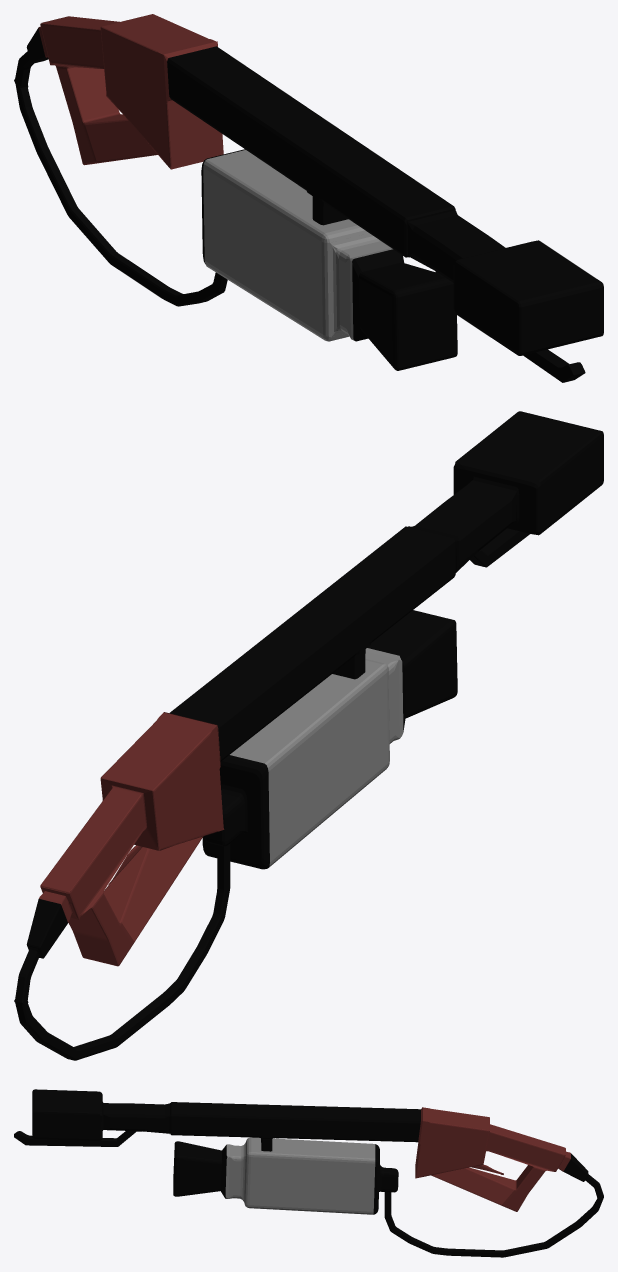
File: lanzallamas.fbx
3 renders of one model, top to bottom at view 1: azimuth 30°, elevation 25°; view 2: azimuth 150°, elevation 25°; view 3: azimuth 270°, elevation 25°, orthographic. The views are drawn at different scales.
Parts seen in each view (by area): view 1: Cube; view 2: Cube; view 3: Cube.
Part boxes in pixels (box(x1,y1,x2,y2)): Cube: box(14, 14, 603, 382); Cube: box(14, 411, 603, 1060); Cube: box(14, 1089, 603, 1257).
Bounding box in the file's own units: 5.21 × 17.29 × 58.95.
